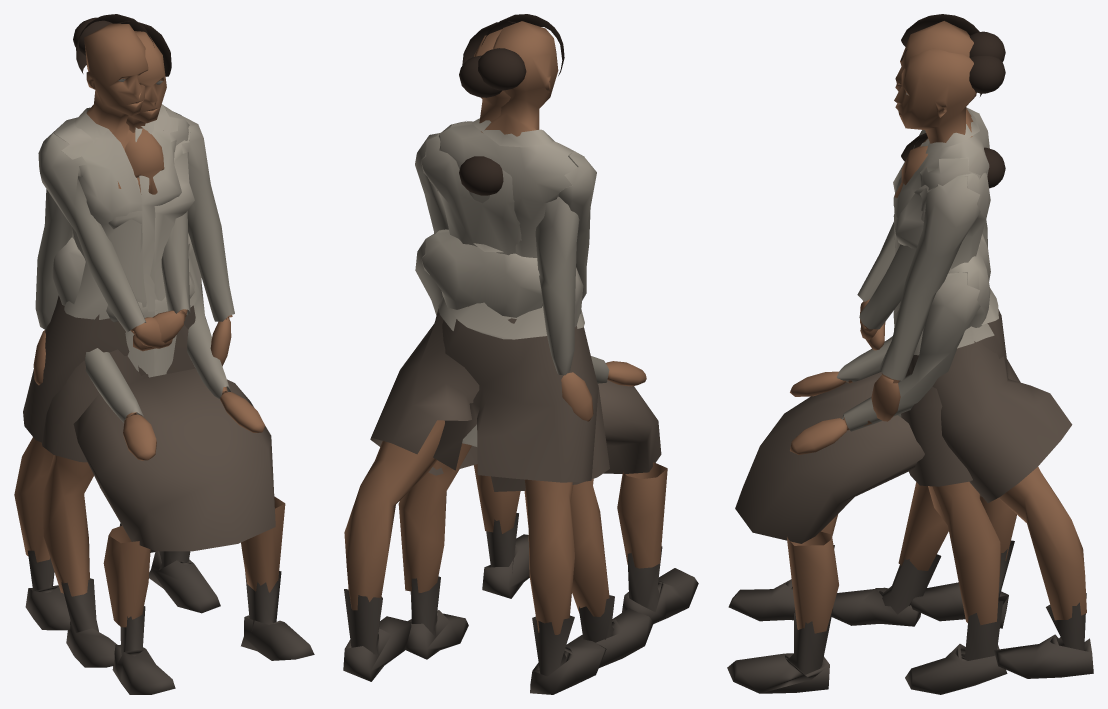
The model's file is crowd-08-far.glb.
3 renders of one model, left to right at view 1: azimuth 30°, elevation 25°; view 2: azimuth 150°, elevation 25°; view 3: azimuth 270°, elevation 25°, orthographic. The views are drawn at different scales.
Visible parts, largest first — view 1: seated, standing, walking; view 2: standing, walking, seated; view 3: walking, seated, standing.
Part boxes in pixels (x1,y1,x2,y2): seated: (52,128,314,694); standing: (14,14,220,630); walking: (33,21,234,667); standing: (398,14,606,694); walking: (343,21,653,681); seated: (415,156,698,623); walking: (831,48,1093,678); seated: (727,133,1005,693); standing: (857,14,1020,694).
Bounding box in the file's own units: 0.519 × 1.62 × 0.8576.
